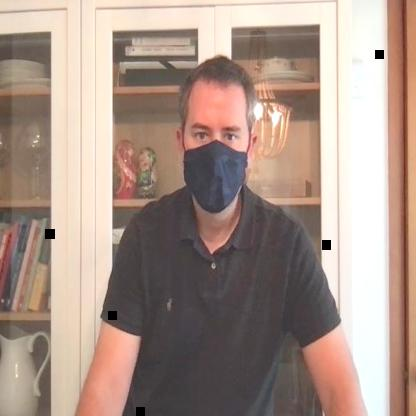mask: (177, 56, 255, 212)
